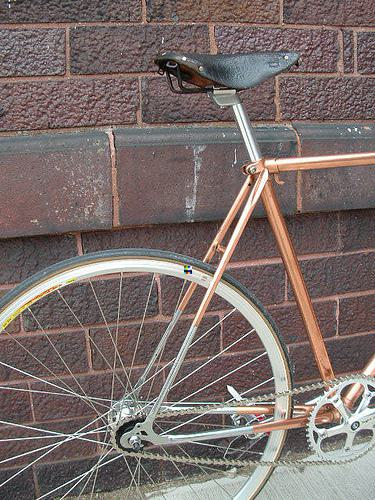car: (4, 44, 373, 497)
